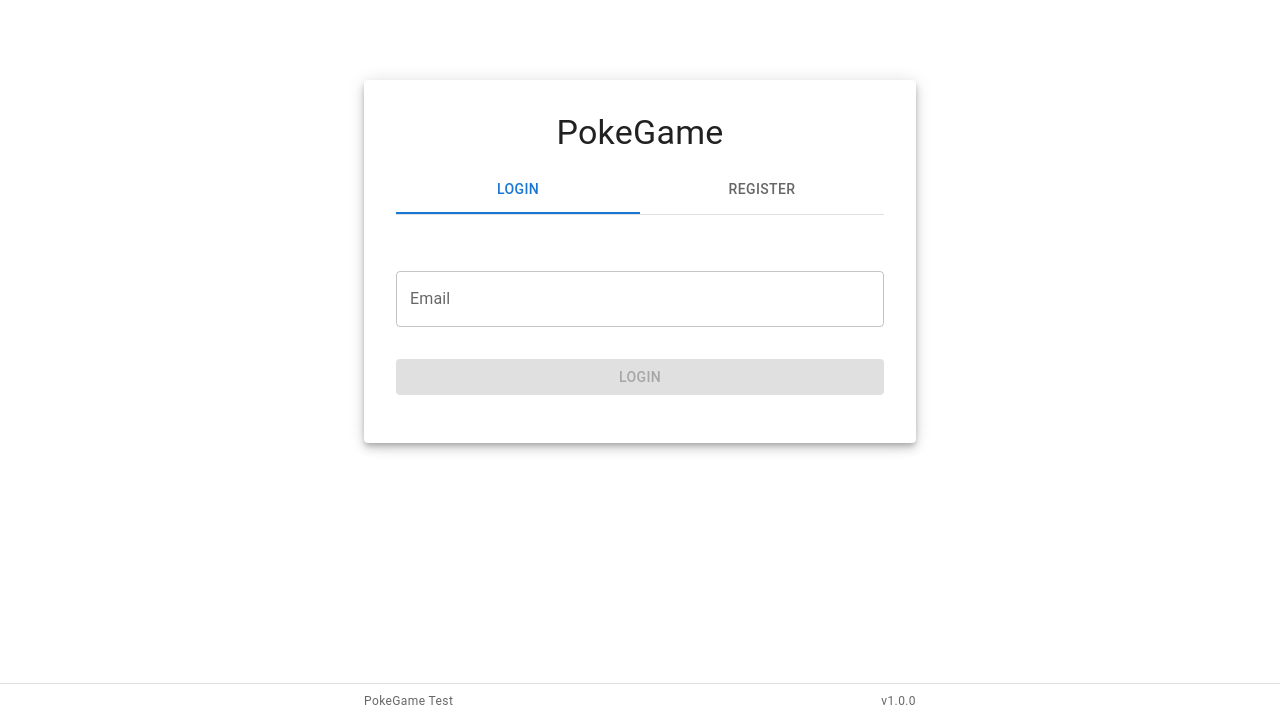
Test: LoginPage › tab switching › should switch to register tab when clicked
The image size is (1280, 720).
Click the tab "Register" at (762, 190), box [640, 166, 884, 214]
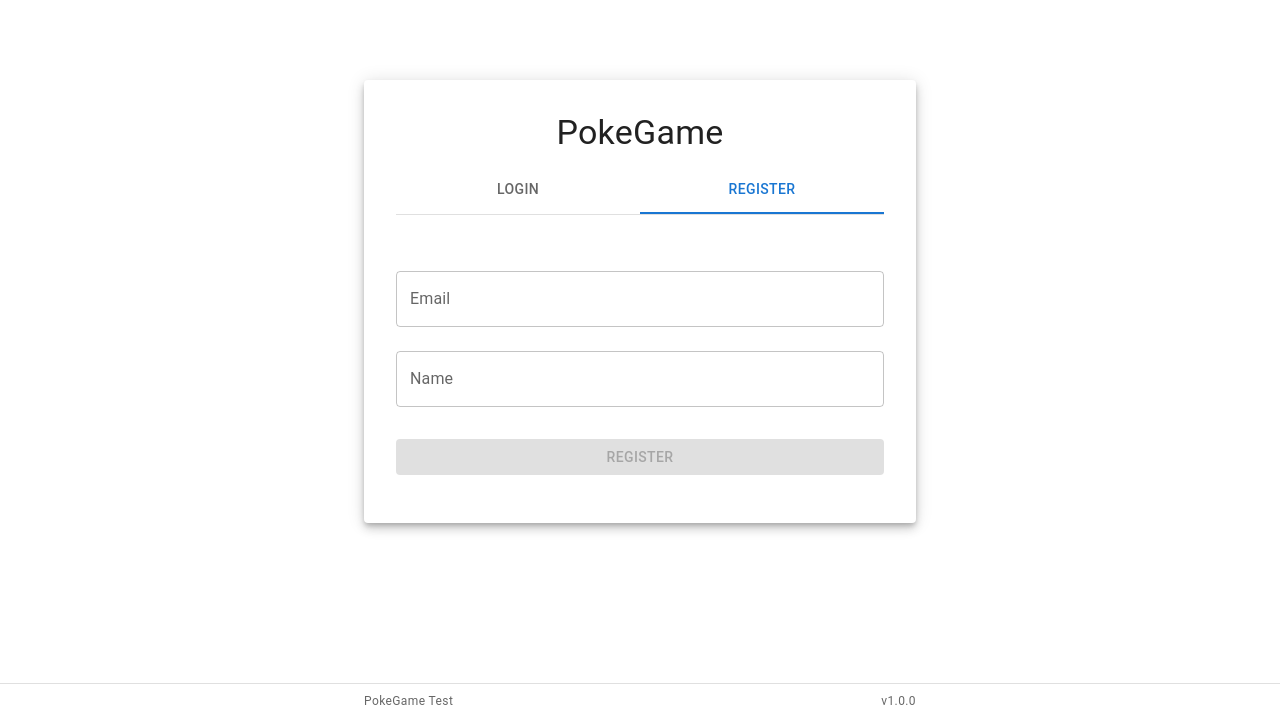
Expected: the form with test id "register-form" is shown, [396, 255, 884, 491]
Expected: the form with test id "login-form" is gone
